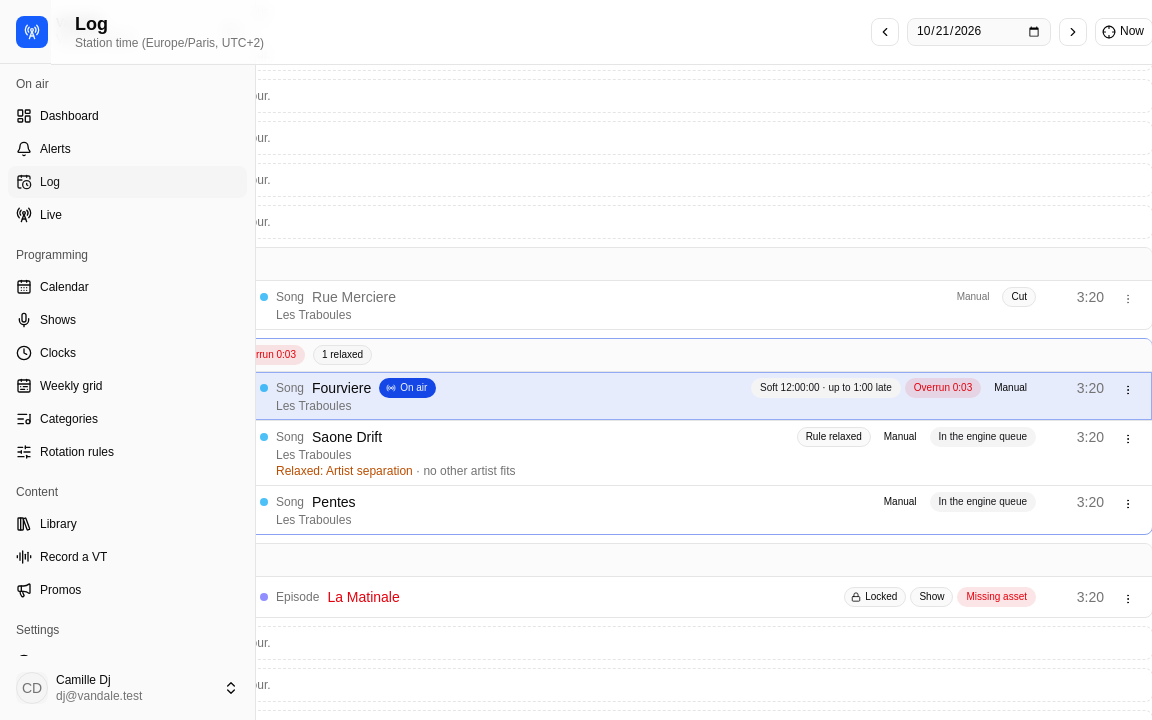
Test: log timeline › replaces through the api, keeping timing and lock, the slot sized from the asset
The image size is (1152, 720).
(page scrolled)
Expected: the text "Pentes" is shown, 312,492 -> 356,512
Click the button named "Actions for Pentes" at (1128, 504), box 1116,492 -> 1140,516
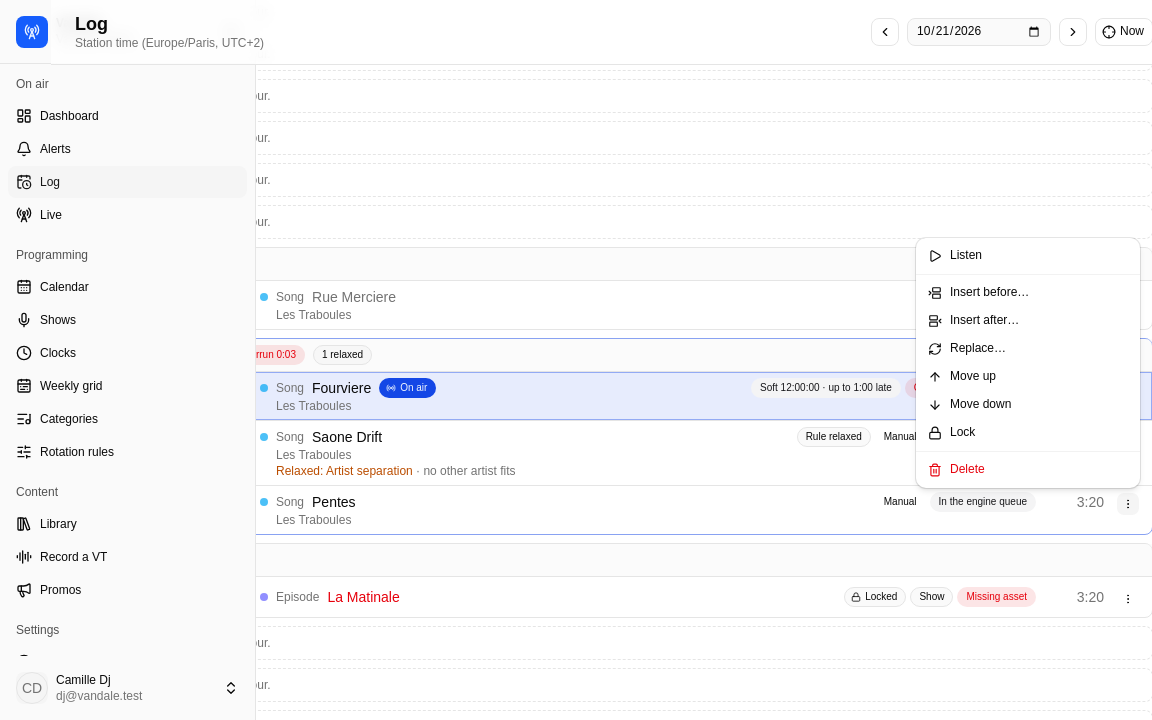
Click the menu item "Replace…" at (967, 349), box 928,341 -> 1006,356
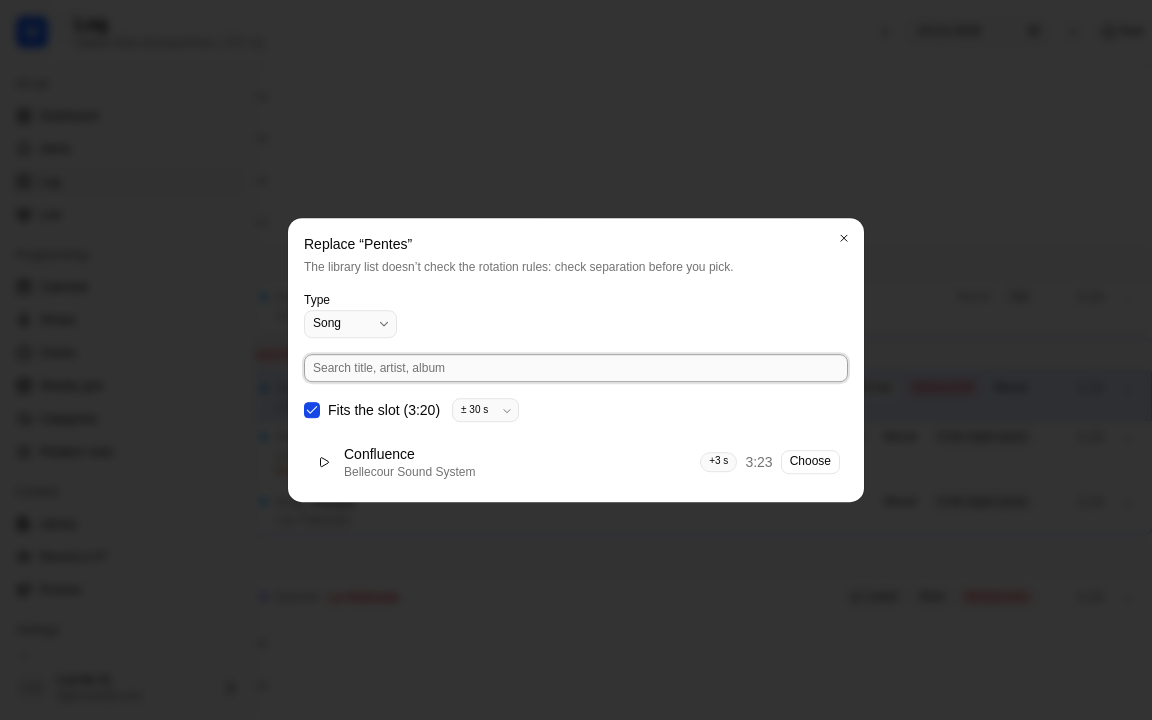
Click the button with aria-label "Choose: Confluence" at (810, 462), box 781,450 -> 840,474
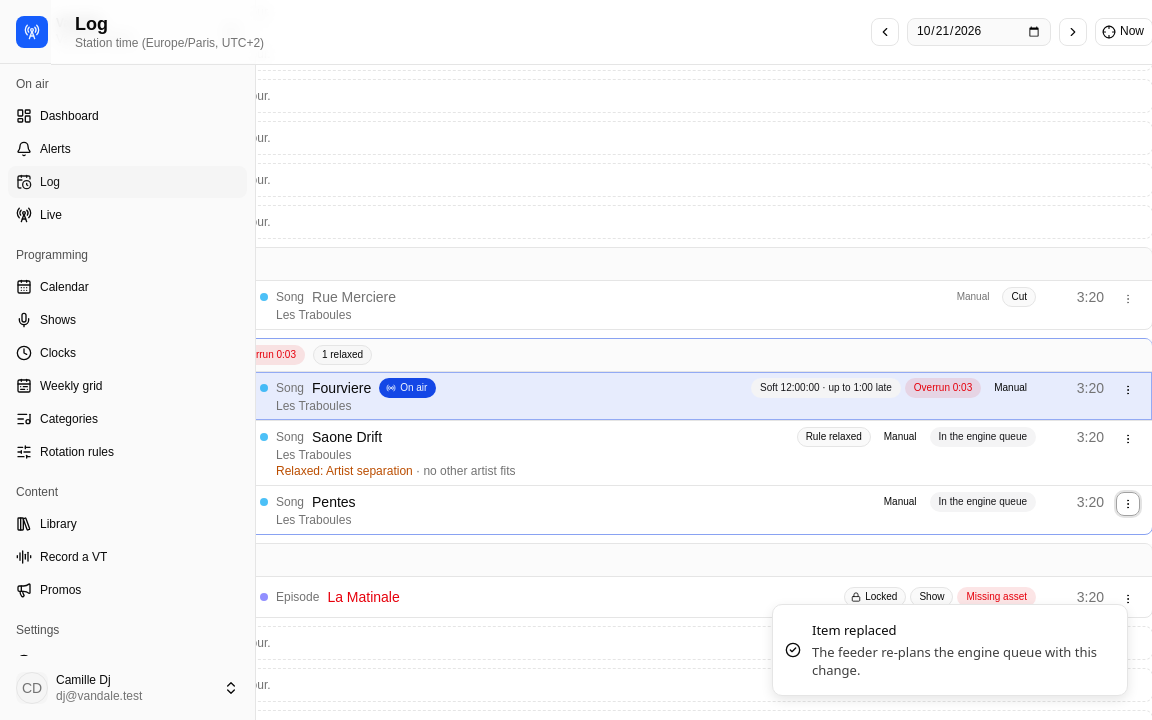
Now the text "Item replaced" is shown, box 812,621 -> 897,639
